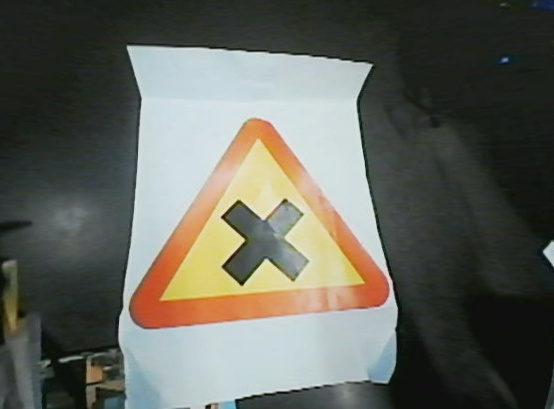junction: (135, 115, 393, 335)
